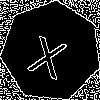X: (26, 26, 72, 80)
